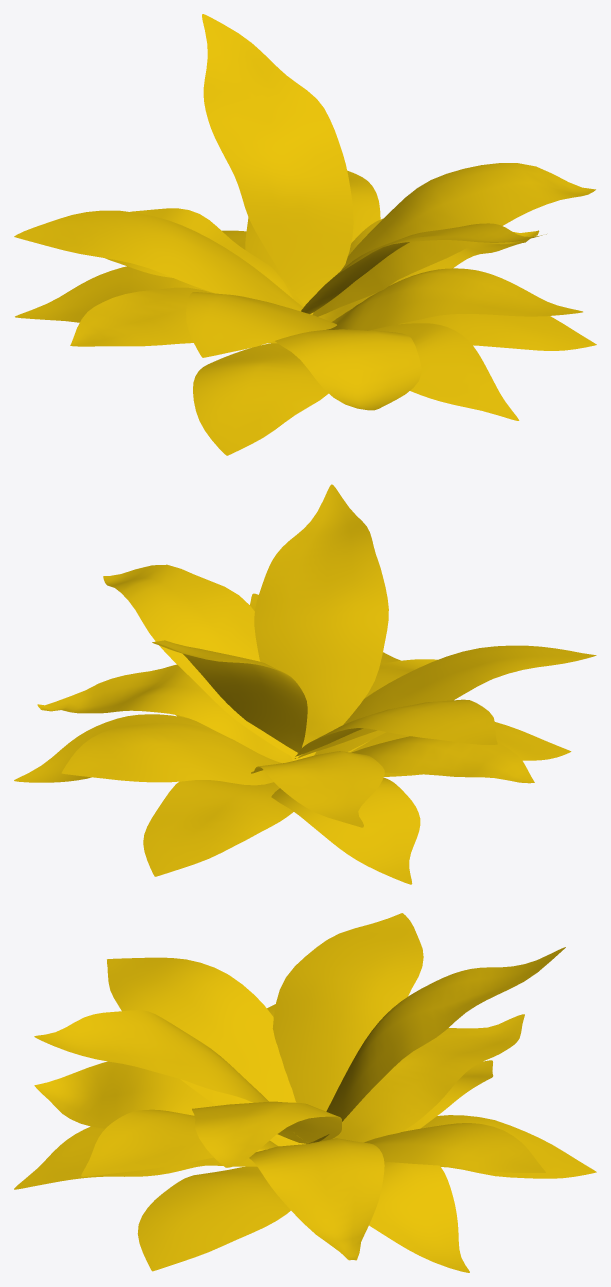
File: PS_Level1_Fern01.fbx
3 renders of one model, top to bottom at view 1: azimuth 30°, elevation 25°; view 2: azimuth 150°, elevation 25°; view 3: azimuth 270°, elevation 25°, orthographic. The views are drawn at different scales.
Parts seen in each view (by area): view 1: PS_Level1_Fern01_LOD0; view 2: PS_Level1_Fern01_LOD0; view 3: PS_Level1_Fern01_LOD0.
Boxes of the visible parts, x1,y1,x2,y2 form: PS_Level1_Fern01_LOD0: (14,14,596,455); PS_Level1_Fern01_LOD0: (14,484,596,884); PS_Level1_Fern01_LOD0: (14,913,596,1272).
Size of what is drawn, in the model's own units: 95.29 by 41.46 by 94.89.
